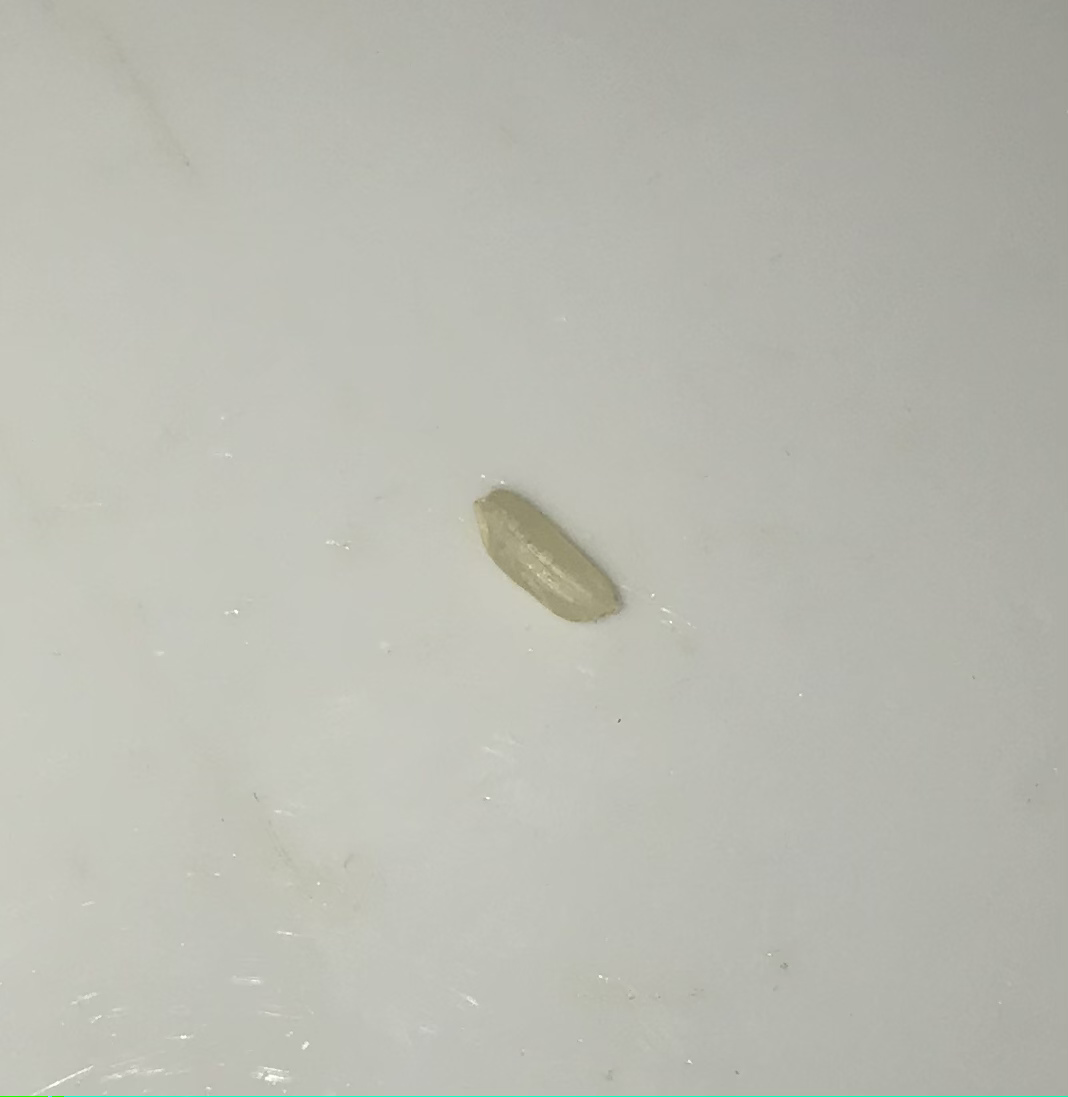Gao Lut Trang: (454, 469, 633, 636)
